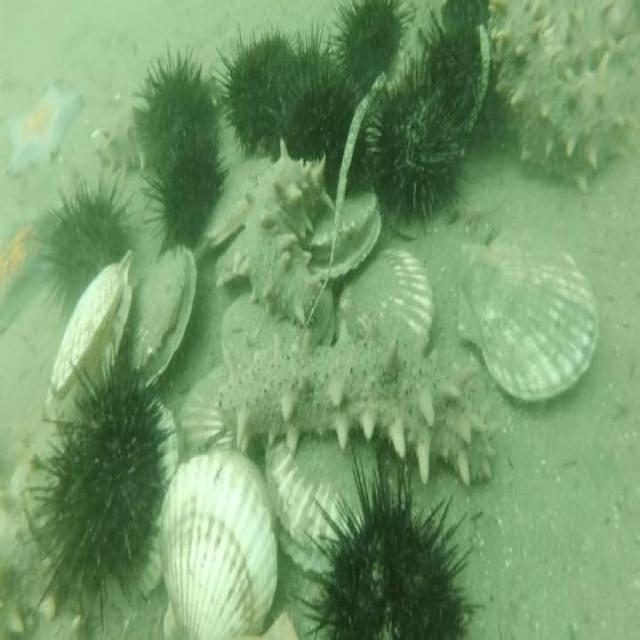echinus: (29, 335, 176, 627), (288, 444, 485, 640), (368, 59, 469, 232), (268, 27, 366, 197), (34, 177, 132, 326), (416, 1, 507, 146), (130, 46, 220, 178), (217, 24, 300, 160), (142, 128, 223, 250), (327, 0, 416, 100)
holothurian: (216, 313, 502, 488), (486, 0, 630, 198), (232, 152, 337, 330), (1, 404, 73, 638), (541, 0, 638, 77), (89, 109, 155, 177)
scallop: (456, 229, 601, 406), (157, 449, 279, 640), (266, 435, 382, 575), (46, 246, 132, 424), (342, 237, 436, 357), (130, 243, 199, 397), (134, 398, 183, 605), (302, 188, 382, 284), (202, 150, 274, 248), (219, 288, 301, 374), (175, 364, 238, 456), (384, 207, 464, 247)
starfish: (3, 82, 88, 183), (1, 212, 64, 343)
